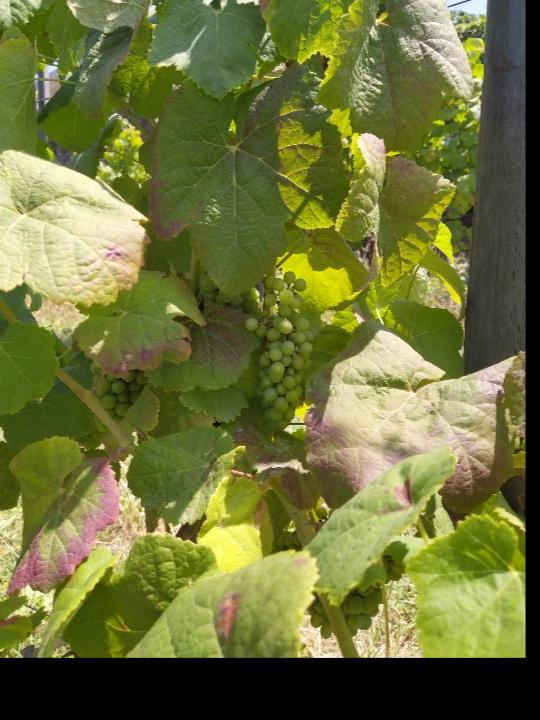grape: (245, 270, 317, 432)
